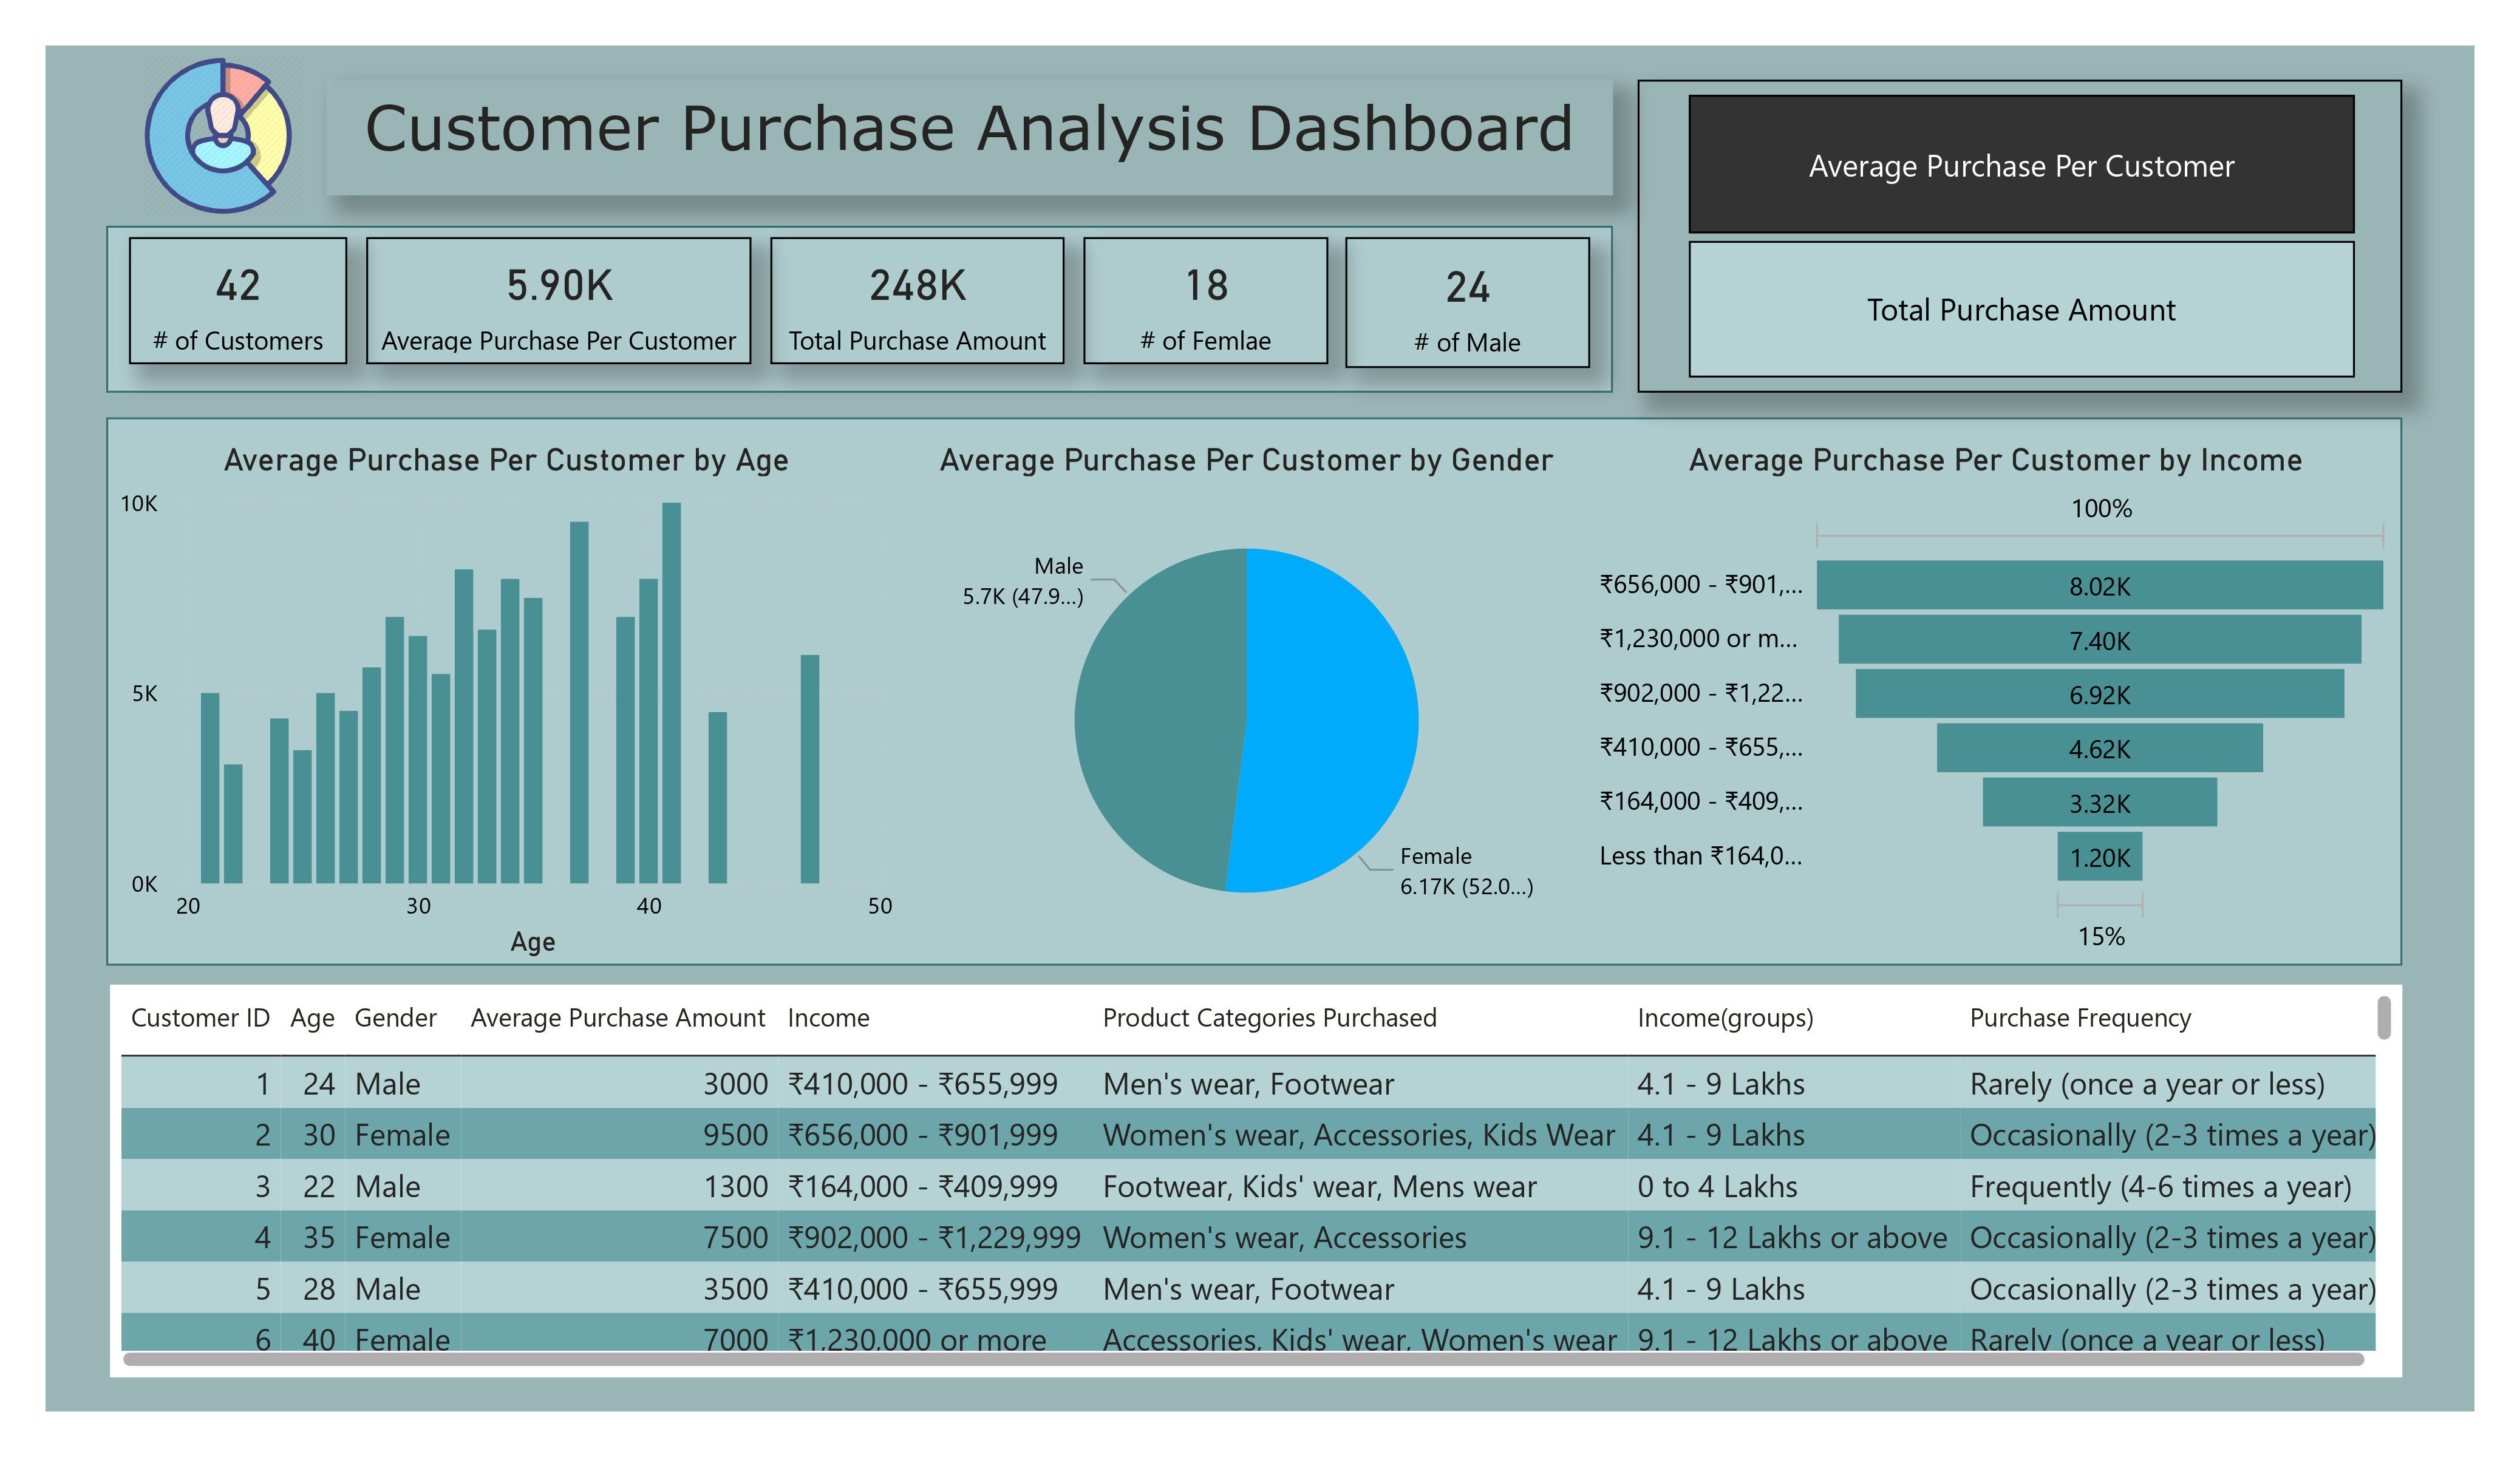

This screenshot's page, from the dashboard's own definition file:
{"tool":"powerbi","page":{"name":"Page 1","canvas":[1280,720],"ordinal":0},"visuals":[{"type":"shape","box":[32.2,95,793.6,87.7],"z":0},{"type":"shape","box":[32.2,195.8,1210.1,289.4],"z":1000},{"type":"card","fields":{"Values":["Sheet1.# of Customers"]},"box":[43.8,100.8,115.5,67.2],"z":2000},{"type":"card","fields":{"Values":["Sheet1.Average Purchase Per Customer"]},"box":[169.2,100.8,203.1,67.2],"z":3000},{"type":"card","fields":{"Values":["Sheet1.Total Purchase Amount"]},"box":[382.2,100.8,154.9,67.2],"z":4000},{"type":"textbox","box":[147.6,17.5,678.1,61.4],"z":5000},{"type":"slicer","fields":{"Values":["Parameter.Parameter"]},"box":[838.9,17.5,403.4,165.1],"z":6000},{"type":"columnChart","fields":{"Y":["Sheet1.Average Purchase Per Customer"],"Category":["Sheet1.Age"]},"box":[33.6,207.5,418,277.7],"z":7000},{"type":"pieChart","fields":{"Y":["Sheet1.Average Purchase Per Customer"],"Category":["Sheet1.Gender"]},"box":[451.6,207.5,362.4,277.7],"z":8000},{"type":"tableEx","fields":{"Values":["Sheet1.Customer ID","Sheet1.Age","Sheet1.Gender","Sheet1.Average Purchase Amount","Sheet1.Income","Sheet1.Product Categories Purchased","Sheet1.Income(groups)","Sheet1.Purchase Frequency"]},"box":[33.6,495.4,1208.6,206.1],"z":9000},{"type":"funnel","fields":{"Y":["Sheet1.Average Purchase Per Customer"],"Category":["Sheet1.Income"]},"box":[814,207.5,428.2,277.7],"z":10000},{"type":"card","fields":{"Values":["CountNonNull(Sheet1.Gender)"]},"box":[685.4,100.8,128.6,68.7],"z":11000},{"type":"card","fields":{"Values":["CountNonNull(Sheet1.Gender)"]},"box":[547,100.8,128.6,67.2],"z":12000},{"type":"image","box":[43.8,0,97.9,95],"z":13000}]}

Visuals, with their boxes in screenshot pixels (x1, y1, x2, y2):
shape: (107,226,1613,392)
shape: (107,417,2403,966)
card - Sheet1.# of Customers: (129,237,348,364)
card - Sheet1.Average Purchase Per Customer: (367,237,752,364)
card - Sheet1.Total Purchase Amount: (771,237,1064,364)
textbox: (325,79,1612,195)
slicer - Parameter.Parameter: (1638,79,2403,392)
columnChart - Sheet1.Average Purchase Per Customer x Sheet1.Age: (109,439,902,966)
pieChart - Sheet1.Average Purchase Per Customer x Sheet1.Gender: (902,439,1590,966)
tableEx - Sheet1.Customer ID x Sheet1.Age: (109,985,2403,1376)
funnel - Sheet1.Average Purchase Per Customer x Sheet1.Income: (1590,439,2403,966)
card - CountNonNull(Sheet1.Gender): (1346,237,1590,367)
card - CountNonNull(Sheet1.Gender): (1083,237,1327,364)
image: (129,46,315,226)
